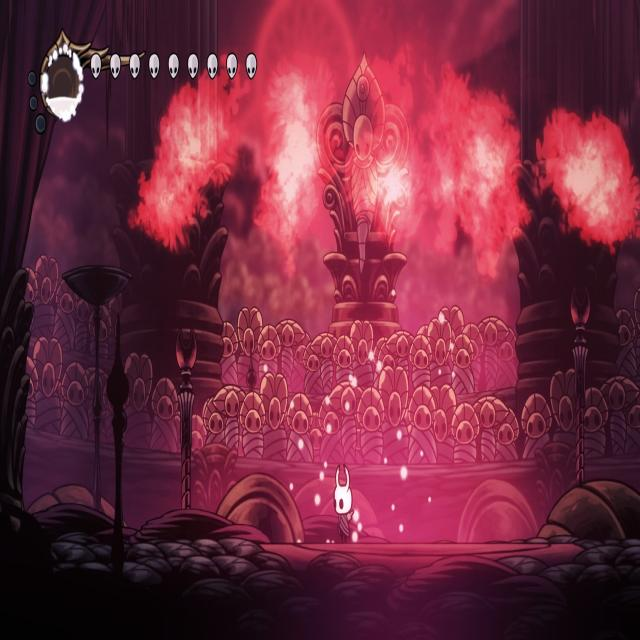Fireball: (146, 110, 222, 230), (557, 126, 621, 226), (357, 140, 422, 236), (453, 123, 514, 219), (266, 108, 322, 212)
Player: (333, 460, 358, 546)
